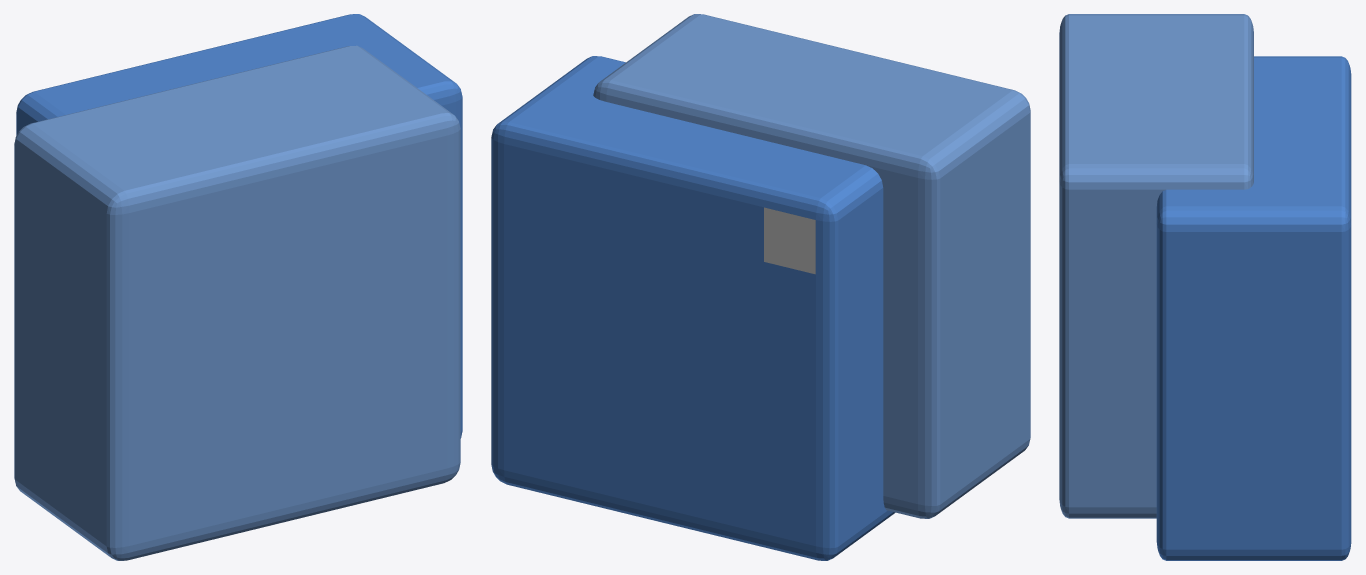
File: Sub_Hashtag.dae
3 renders of one model, left to right at view 1: azimuth 30°, elevation 25°; view 2: azimuth 150°, elevation 25°; view 3: azimuth 270°, elevation 25°, orthographic. The views are drawn at different scales.
Parts seen in each view (by area): view 1: Cube_001, Cube; view 2: Cube, Cube_001, Plane; view 3: Cube, Cube_001.
Part boxes in pixels (left/top/right/bottom): Cube_001: left=14, top=45, right=460, bottom=560; Cube: left=16, top=14, right=462, bottom=438; Cube: left=491, top=56, right=895, bottom=560; Cube_001: left=593, top=14, right=1030, bottom=518; Plane: left=764, top=207, right=815, bottom=274; Cube: left=1156, top=56, right=1351, bottom=560; Cube_001: left=1059, top=14, right=1253, bottom=518.
Size of the model in its own units: 2.3 by 1.5 by 2.1.
